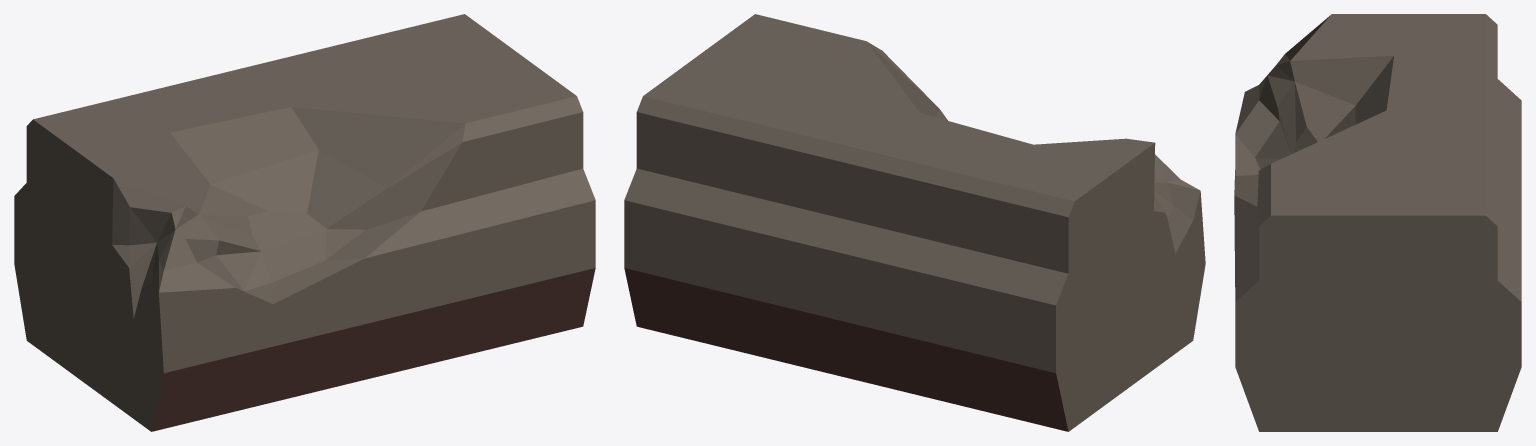
Rendered from steampunk_wall_stone_half_broken.fbx.
3 renders of one model, left to right at view 1: azimuth 30°, elevation 25°; view 2: azimuth 150°, elevation 25°; view 3: azimuth 270°, elevation 25°, orthographic. The views are drawn at different scales.
Parts seen in each view (by area): view 1: Cube.034; view 2: Cube.034; view 3: Cube.034.
Part boxes in pixels (bbox=[...]): Cube.034: bbox=[14, 14, 595, 431]; Cube.034: bbox=[624, 14, 1205, 431]; Cube.034: bbox=[1234, 14, 1521, 431].
Size of the model in its own units: 3 by 1.5 by 1.81.
